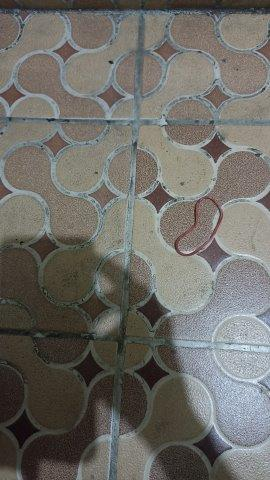karet: (175, 196, 224, 256)
